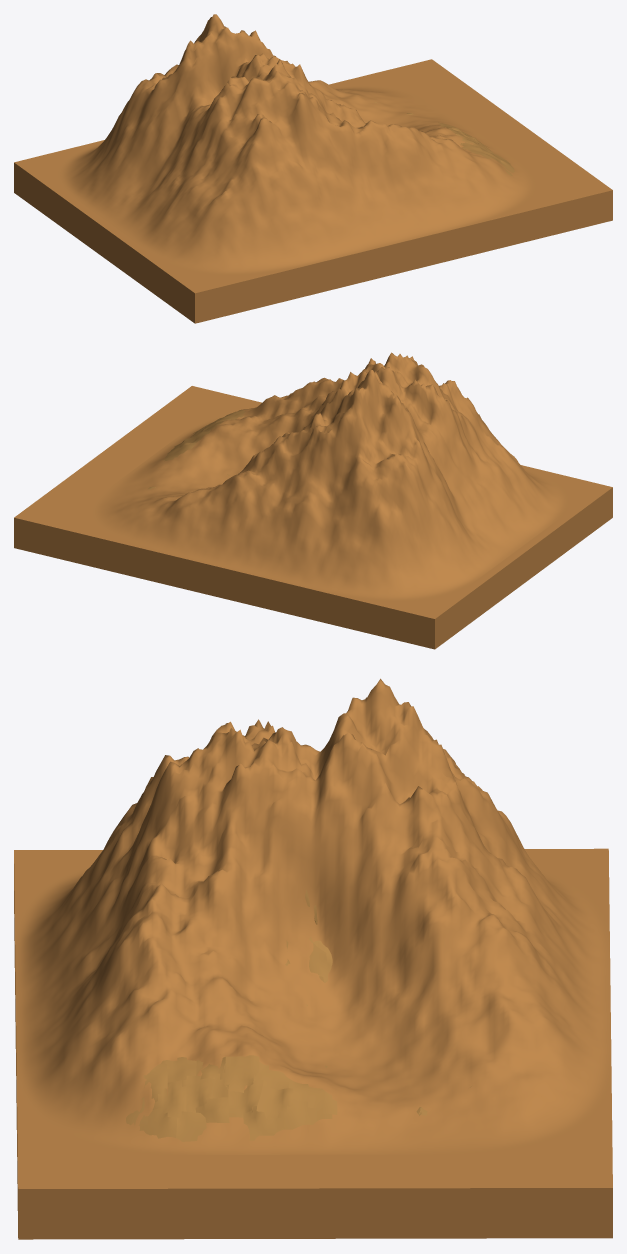
Rendered from Landslide_2.gltf.
3 renders of one model, top to bottom at view 1: azimuth 30°, elevation 25°; view 2: azimuth 150°, elevation 25°; view 3: azimuth 270°, elevation 25°, orthographic. The views are drawn at different scales.
Visible parts, largest first — view 1: Landscape, Cube; view 2: Landscape, Cube; view 3: Landscape, Cube, Landscape.033, Landscape.037, Landscape.042, Landscape.043, Landscape.030, Landscape.040, Landscape.038, Landscape.041, Landscape.034, Landscape.029.
Boxes of the visible parts, x1,y1,x2,y2 form: Landscape: [22, 14, 570, 290]; Cube: [14, 59, 612, 323]; Landscape: [56, 352, 604, 616]; Cube: [14, 386, 612, 649]; Landscape: [14, 678, 612, 1155]; Cube: [14, 848, 612, 1239]; Landscape.033: [182, 1073, 229, 1112]; Landscape.037: [220, 1055, 259, 1092]; Landscape.042: [288, 1079, 337, 1114]; Landscape.043: [277, 1098, 332, 1129]; Landscape.030: [153, 1080, 186, 1117]; Landscape.040: [256, 1085, 293, 1118]; Landscape.038: [228, 1079, 263, 1117]; Landscape.041: [243, 1106, 283, 1140]; Landscape.034: [176, 1111, 206, 1141]; Landscape.029: [139, 1107, 177, 1138].
Bounding box in the file's own units: 28.03 × 12.54 × 20.85.
